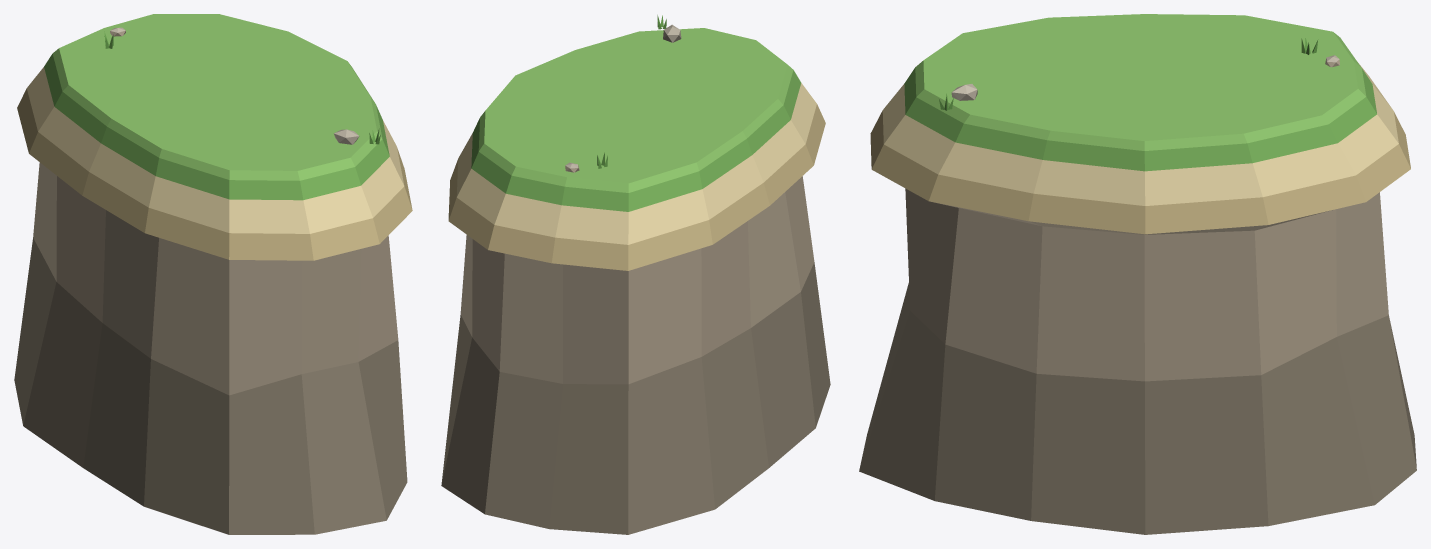
Rendered from islet.glb.
The picture shows the model from 3 angles, left to right: view 1: azimuth 30°, elevation 25°; view 2: azimuth 150°, elevation 25°; view 3: azimuth 270°, elevation 25°; orthographic projection. The views are drawn at different scales.
Visible parts, largest first — view 1: islet; view 2: islet; view 3: islet.
Part boxes in pixels (x1,y1,x2,y2): islet: (14, 14, 412, 534); islet: (441, 15, 830, 534); islet: (859, 14, 1416, 534).
Size of the model in its own units: 17.98 by 20.79 by 26.69.
